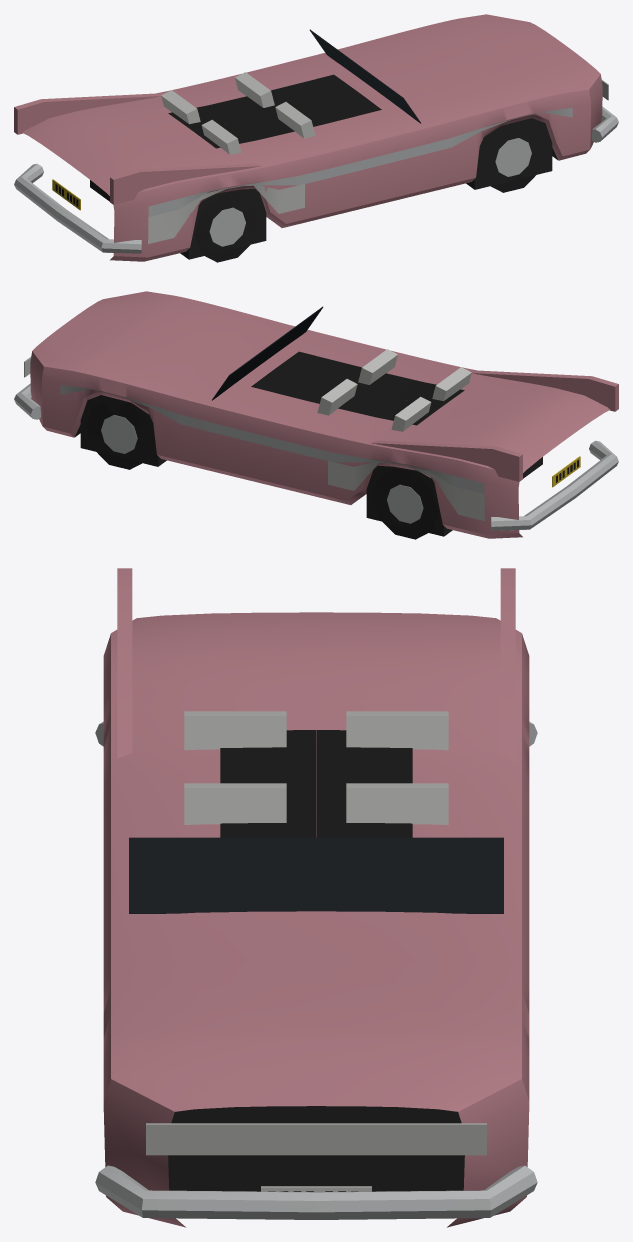
File: SM_Prop_parked_car_114_LOD1.glb
3 renders of one model, top to bottom at view 1: azimuth 30°, elevation 25°; view 2: azimuth 150°, elevation 25°; view 3: azimuth 270°, elevation 25°, orthographic. The views are drawn at different scales.
Parts seen in each view (by area): view 1: SM_Prop_parked_car_114_LOD1; view 2: SM_Prop_parked_car_114_LOD1; view 3: SM_Prop_parked_car_114_LOD1.
Boxes of the visible parts, x1=… form: SM_Prop_parked_car_114_LOD1: x1=14, y1=14, x2=618, y2=262; SM_Prop_parked_car_114_LOD1: x1=14, y1=291, x2=618, y2=539; SM_Prop_parked_car_114_LOD1: x1=95, y1=568, x2=537, y2=1227.
Bounding box in the file's own units: 5.66 × 1.21 × 2.08.
